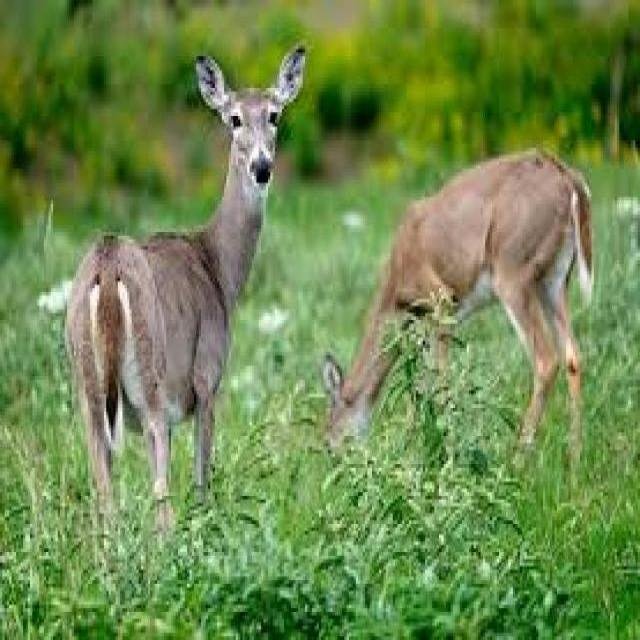deer: (61, 45, 306, 507), (315, 140, 586, 481)
